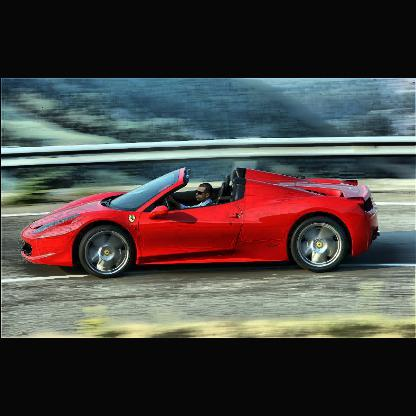Ferrari 458 Italia Convertible 2012: (23, 165, 384, 280)
